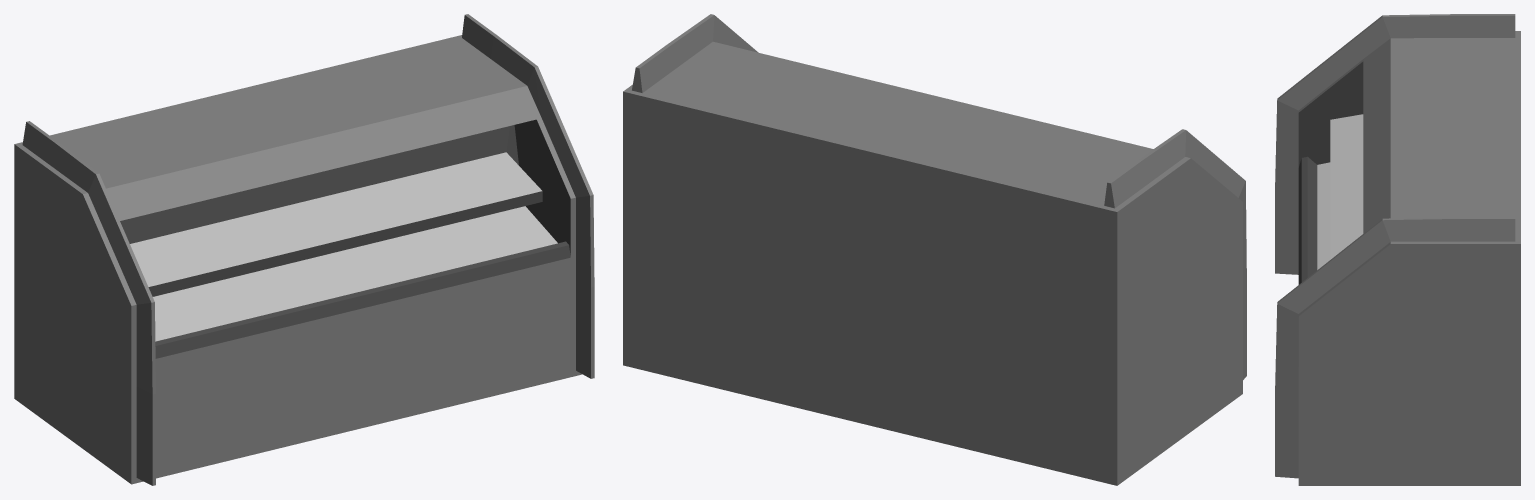
File: CoolingShelf.fbx
The picture shows the model from 3 angles, left to right: view 1: azimuth 30°, elevation 25°; view 2: azimuth 150°, elevation 25°; view 3: azimuth 270°, elevation 25°; orthographic projection. The views are drawn at different scales.
Parts seen in each view (by area): view 1: CoolingShelf; view 2: CoolingShelf; view 3: CoolingShelf.
Part boxes in pixels (x1,y1,x2,y2): CoolingShelf: (14,14,594,485); CoolingShelf: (623,14,1246,485); CoolingShelf: (1275,14,1520,485).
Size of the model in its own units: 99.33 by 57.21 by 48.44.
